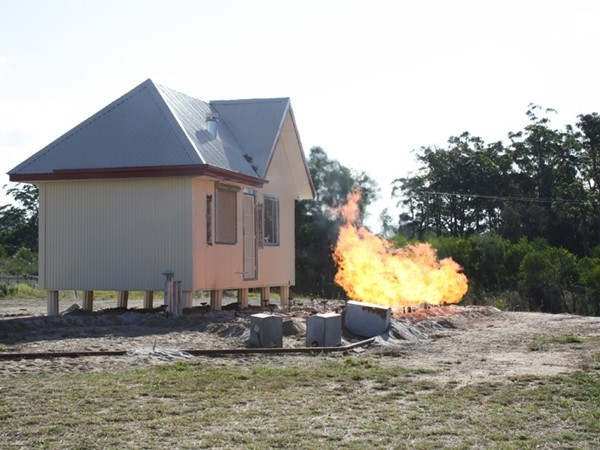Fire: (394, 246, 465, 305), (337, 226, 390, 302)
